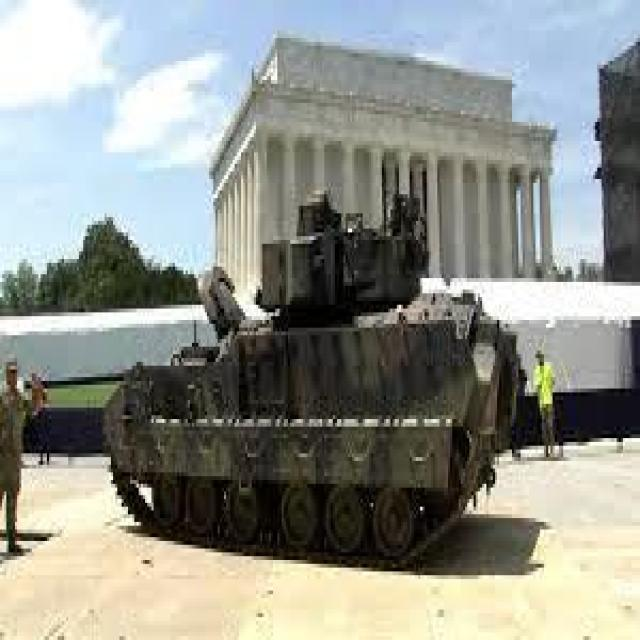MIL_MBT: (101, 192, 528, 573)
